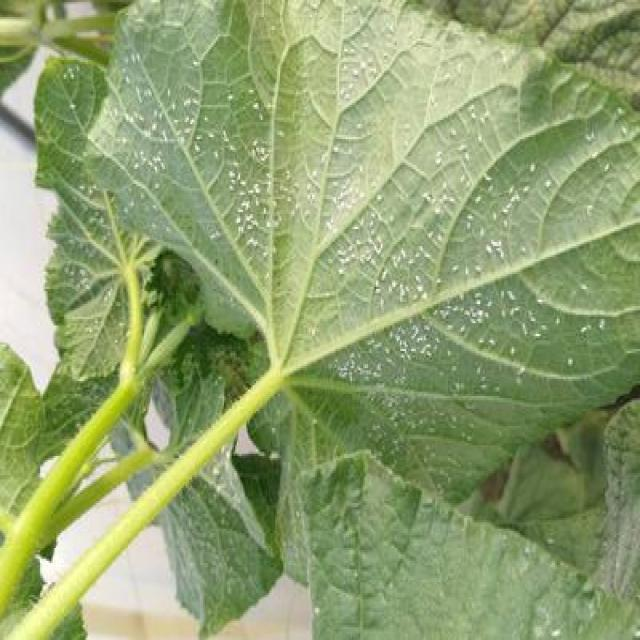Whitefly: (92, 11, 624, 514), (41, 45, 157, 371), (572, 92, 634, 192)
